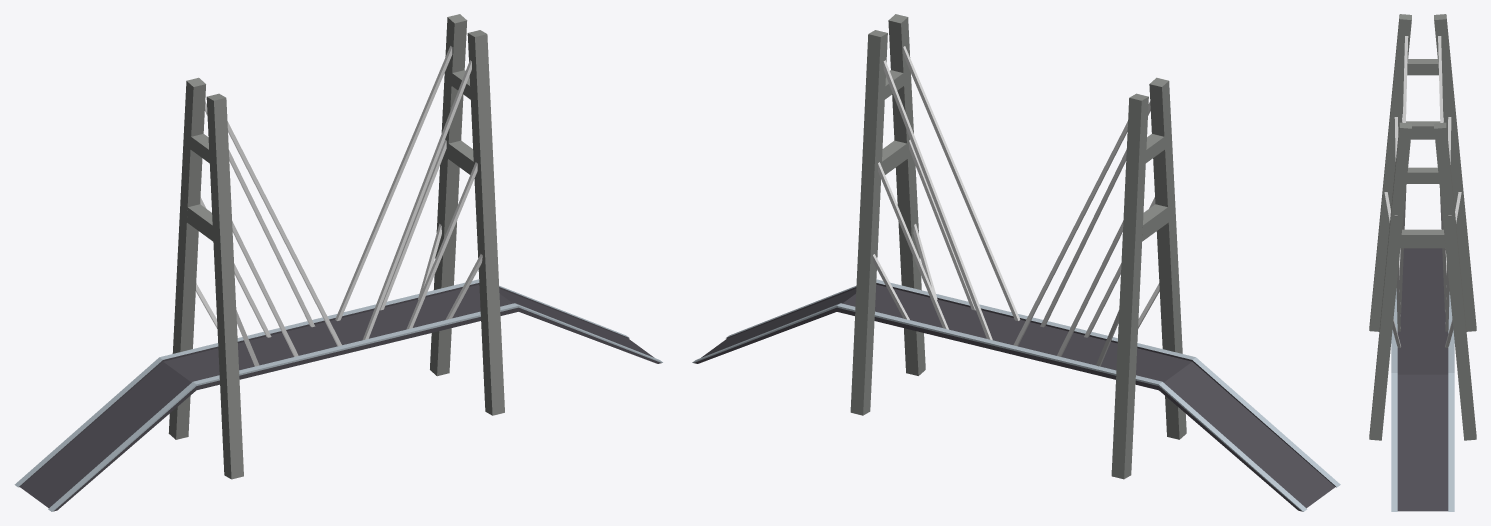
File: bridge_color.fbx
The picture shows the model from 3 angles, left to right: view 1: azimuth 30°, elevation 25°; view 2: azimuth 150°, elevation 25°; view 3: azimuth 270°, elevation 25°; orthographic projection. The views are drawn at different scales.
Parts seen in each view (by area): view 1: Cube.009, Cube.008, Cube.012; view 2: Cube.009, Cube.008, Cube.012; view 3: Cube.009, Cube.008, Cube.012.
Part boxes in pixels (bbox=[...]): Cube.009: bbox=[168, 14, 504, 479]; Cube.008: bbox=[14, 279, 662, 511]; Cube.012: bbox=[196, 46, 482, 366]; Cube.009: bbox=[850, 14, 1186, 479]; Cube.008: bbox=[692, 279, 1340, 511]; Cube.012: bbox=[872, 46, 1159, 366]; Cube.009: bbox=[1369, 14, 1476, 440]; Cube.008: bbox=[1391, 248, 1454, 511]; Cube.012: bbox=[1384, 36, 1461, 347].
Bounding box in the file's own units: 11301 × 6475 × 2007.
